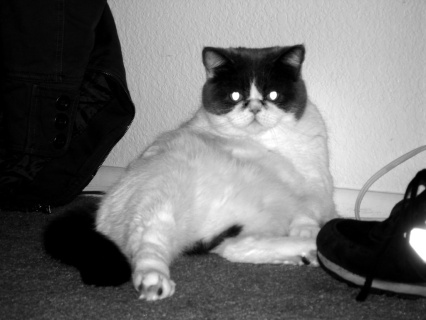Cat: (39, 44, 342, 300)
